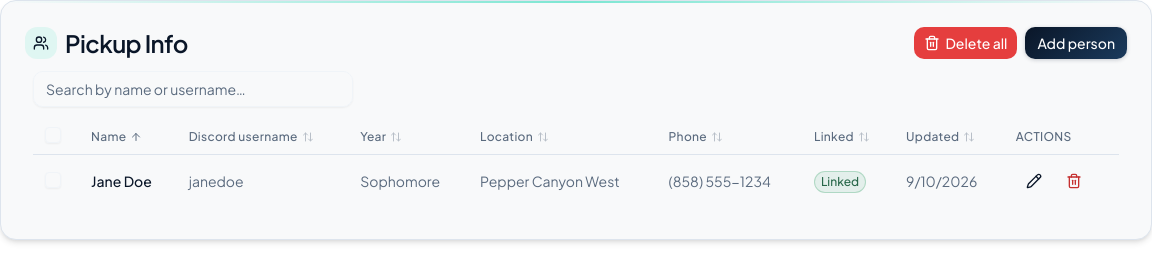
Test: PickupInfoTable › shows no matches when the search has no hits
In the field with placeholder "Search by name or username…": coordinates (193, 89) [33,71,353,107], type "nobody"
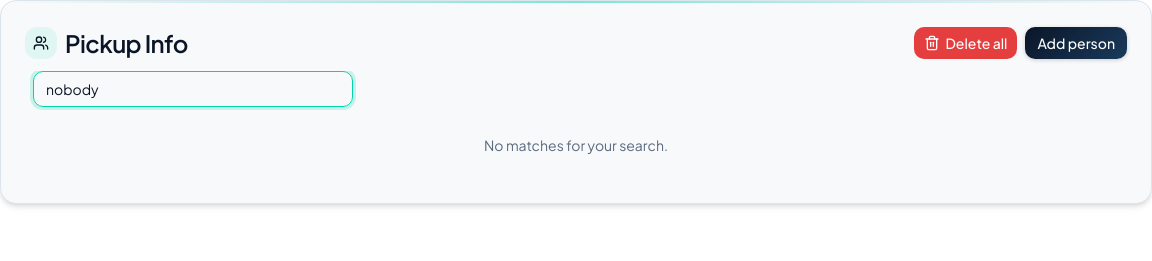
Check: the text "No matches for your search." is shown, box [484,136,668,154]
